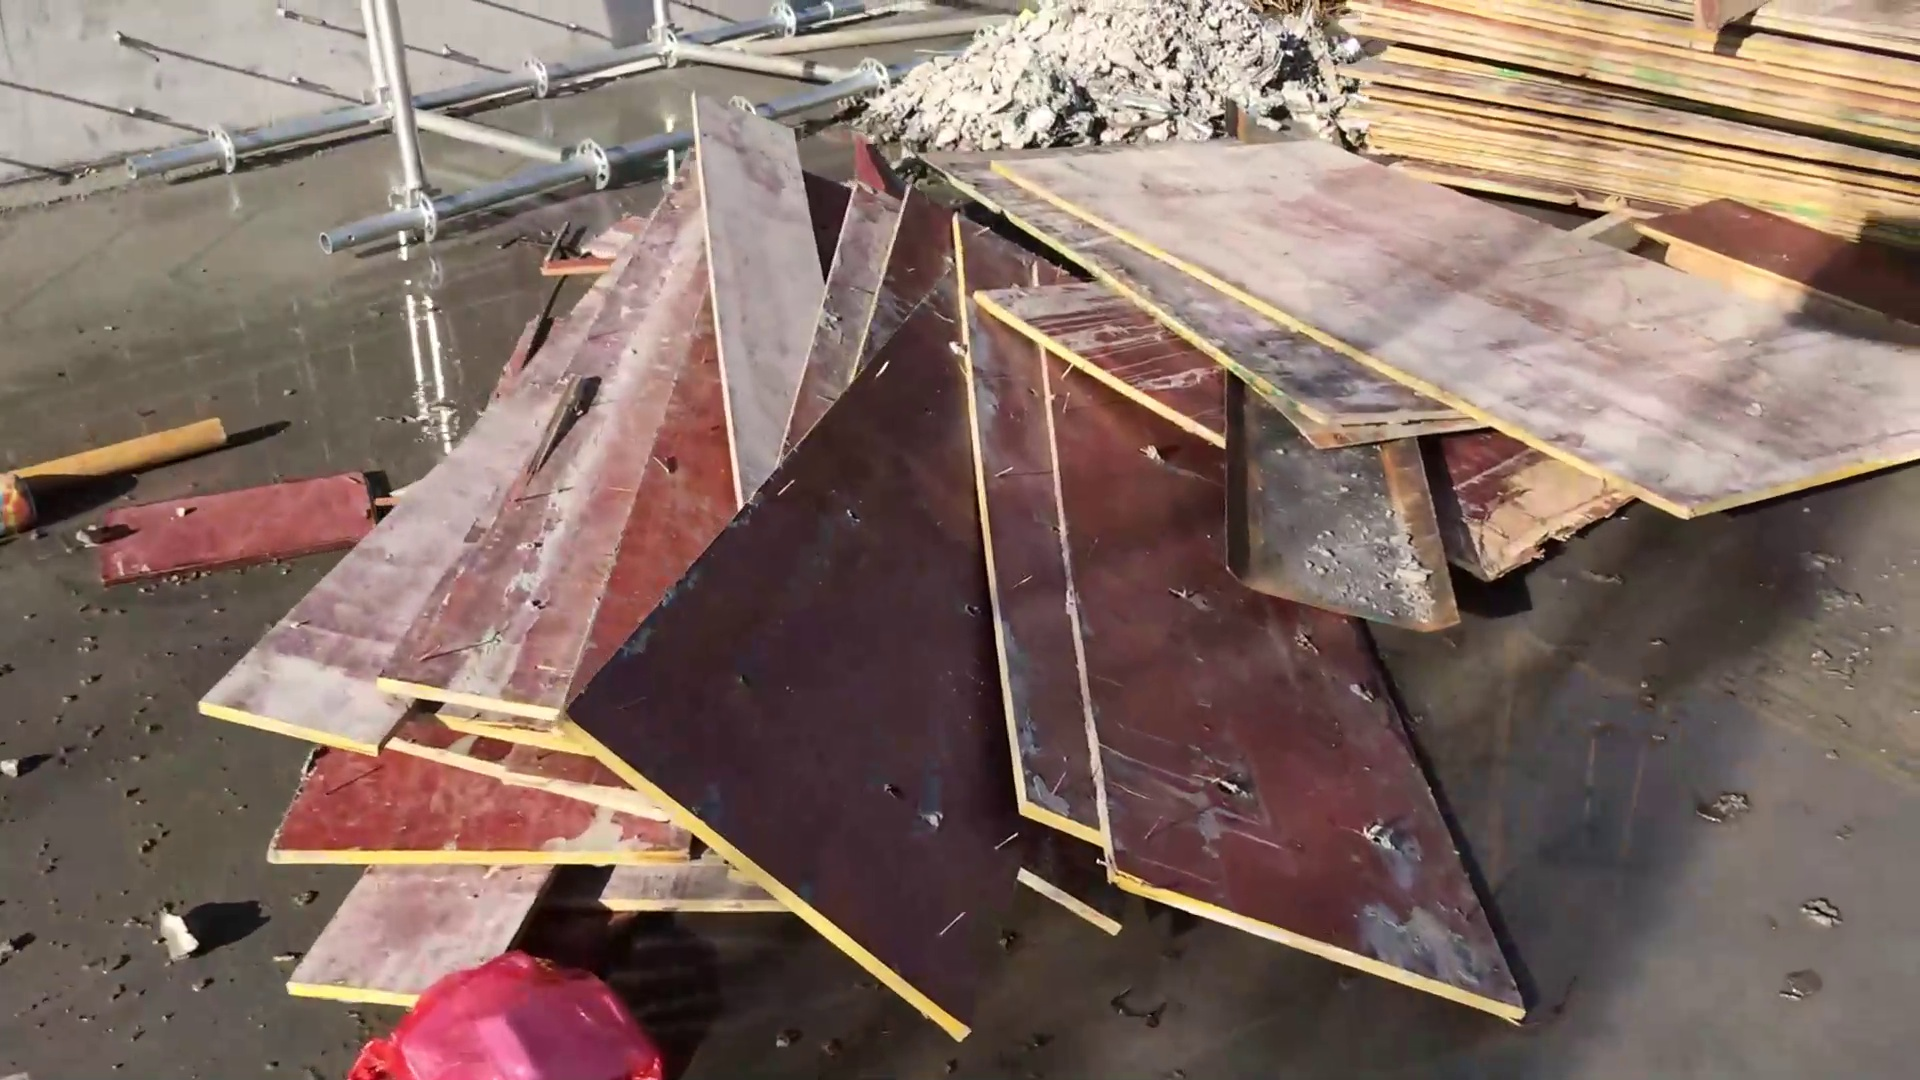board: (1304, 1, 1920, 303)
